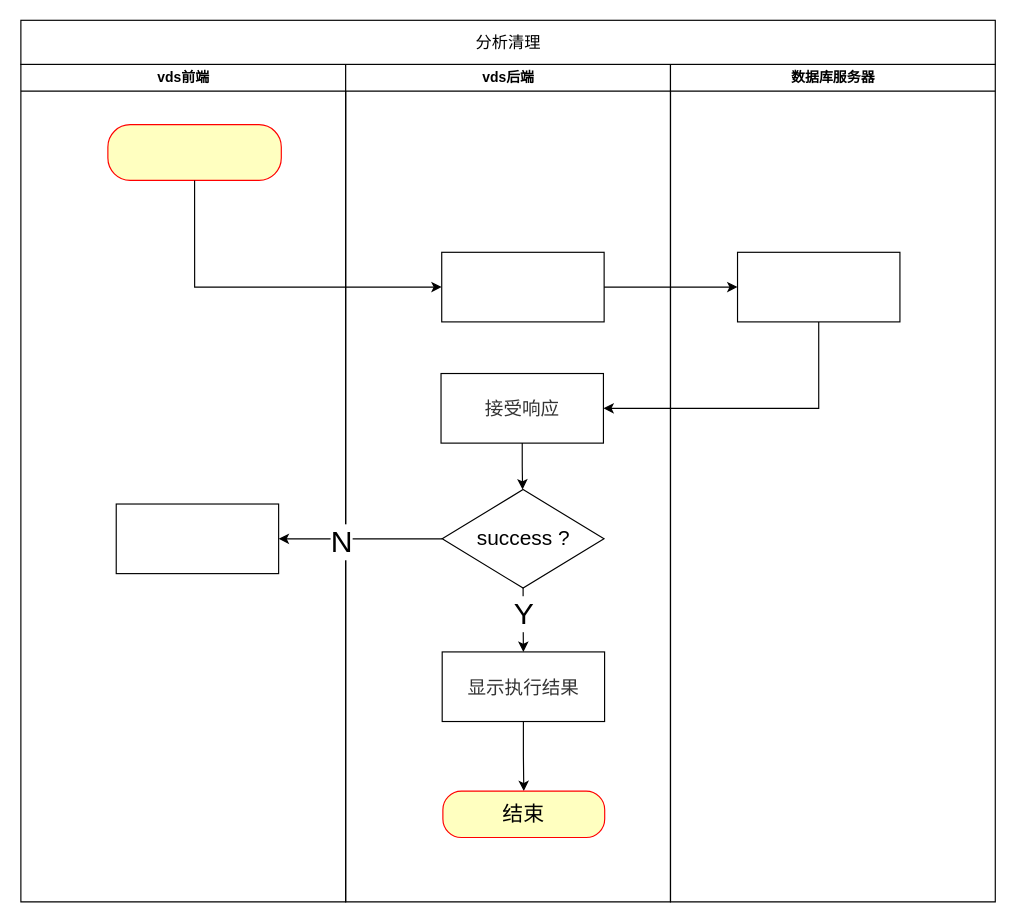
Some shapes in this 1015 by 922 pixel diagram are drawn without their labels. Each missing label, with the centre of its shape:
处理请求: (818,286)
建立JDBC连接，发送对应SQL命令: (522,286)
提示错误信息: (197,538)
点击分析/清理菜单: (194,152)
